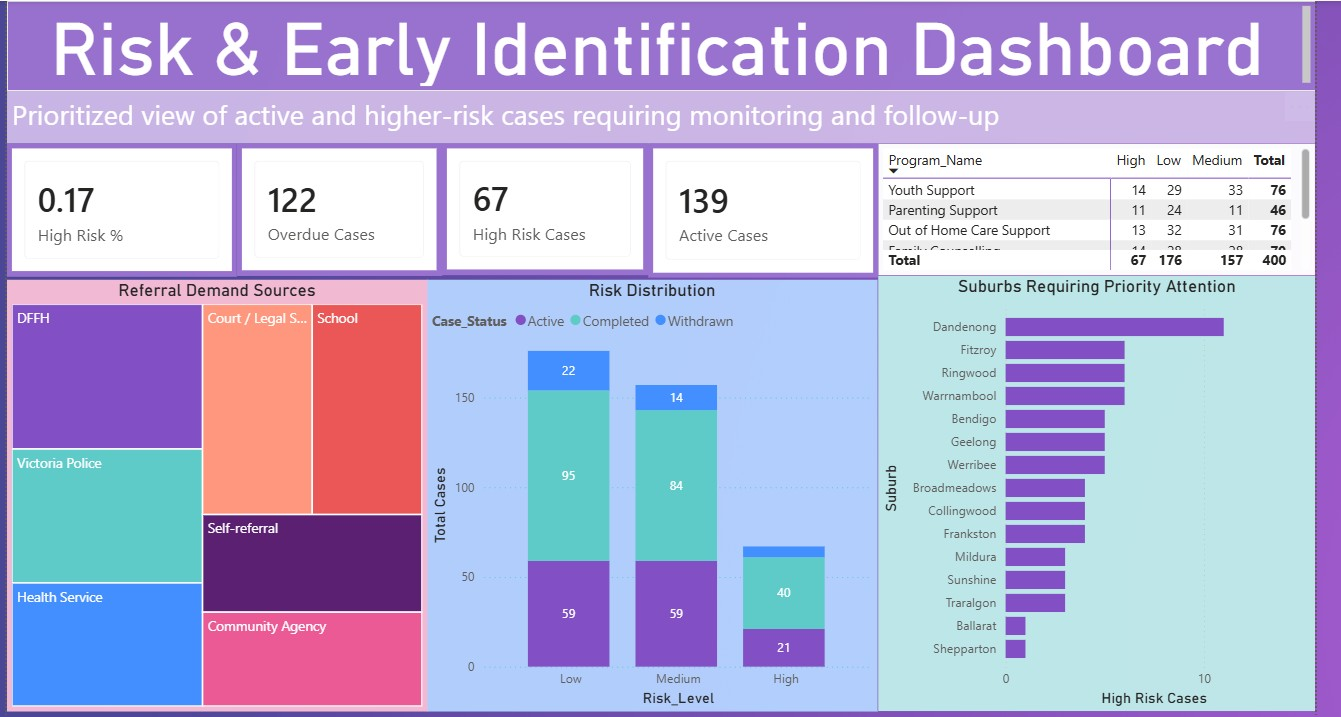

The page's visual inventory and layout, read from the dashboard file:
{"tool":"powerbi","page":{"name":"Risk and Early Identification","canvas":[1280,720],"ordinal":1},"visuals":[{"type":"cardVisual","fields":{"Data":["Victoria_Service_Data.High Risk %"]},"box":[0,140,225,130],"z":0},{"type":"cardVisual","fields":{"Data":["Victoria_Service_Data.High Risk Cases"]},"box":[425,140,202.5,128.8],"z":1000},{"type":"cardVisual","fields":{"Data":["Victoria_Service_Data.Active Cases"]},"box":[627.5,140,225,131.2],"z":2000},{"type":"cardVisual","fields":{"Data":["Victoria_Service_Data.Overdue Cases"]},"box":[225,139.4,200.5,129.6],"z":3000},{"type":"columnChart","title":" Risk Distribution","fields":{"Category":["Victoria_Service_Data.Risk_Level"],"Y":["Victoria_Service_Data.Total Cases"],"Series":["Victoria_Service_Data.Case_Status"]},"box":[411.1,272.2,440.7,422.2],"z":4000},{"type":"treemap","title":"Referral Demand Sources","fields":{"Group":["Victoria_Service_Data.Referral_Source"],"Values":["Victoria_Service_Data.Total Cases"]},"box":[0,272.2,411.1,422.2],"z":5000},{"type":"pivotTable","fields":{"Rows":["Victoria_Service_Data.Program_Name"],"Columns":["Victoria_Service_Data.Risk_Level"],"Values":["Victoria_Service_Data.Total Cases"]},"box":[852.5,140,427.5,128.8],"z":6000},{"type":"clusteredBarChart","title":"Suburbs Requiring Priority Attention","fields":{"Category":["Victoria_Service_Data.Suburb"],"Y":["Victoria_Service_Data.High Risk Cases"]},"box":[851.9,268.5,427.8,425.9],"z":7000},{"type":"textbox","box":[0,0,1280.3,88],"z":8000},{"type":"textbox","box":[0,88,1280.3,51.4],"z":9000}]}

Visuals, with their boxes in screenshot pixels (x1, y1, x2, y2):
cardVisual - Victoria_Service_Data.High Risk %: [3,142,232,274]
cardVisual - Victoria_Service_Data.High Risk Cases: [436,142,641,273]
cardVisual - Victoria_Service_Data.Active Cases: [641,142,870,276]
cardVisual - Victoria_Service_Data.Overdue Cases: [232,142,436,273]
" Risk Distribution" columnChart: [421,277,869,706]
"Referral Demand Sources" treemap: [3,277,421,706]
pivotTable - Victoria_Service_Data.Program_Name x Victoria_Service_Data.Risk_Level: [870,142,1305,273]
"Suburbs Requiring Priority Attention" clusteredBarChart: [870,273,1304,706]
textbox: [3,0,1305,89]
textbox: [3,89,1305,142]
